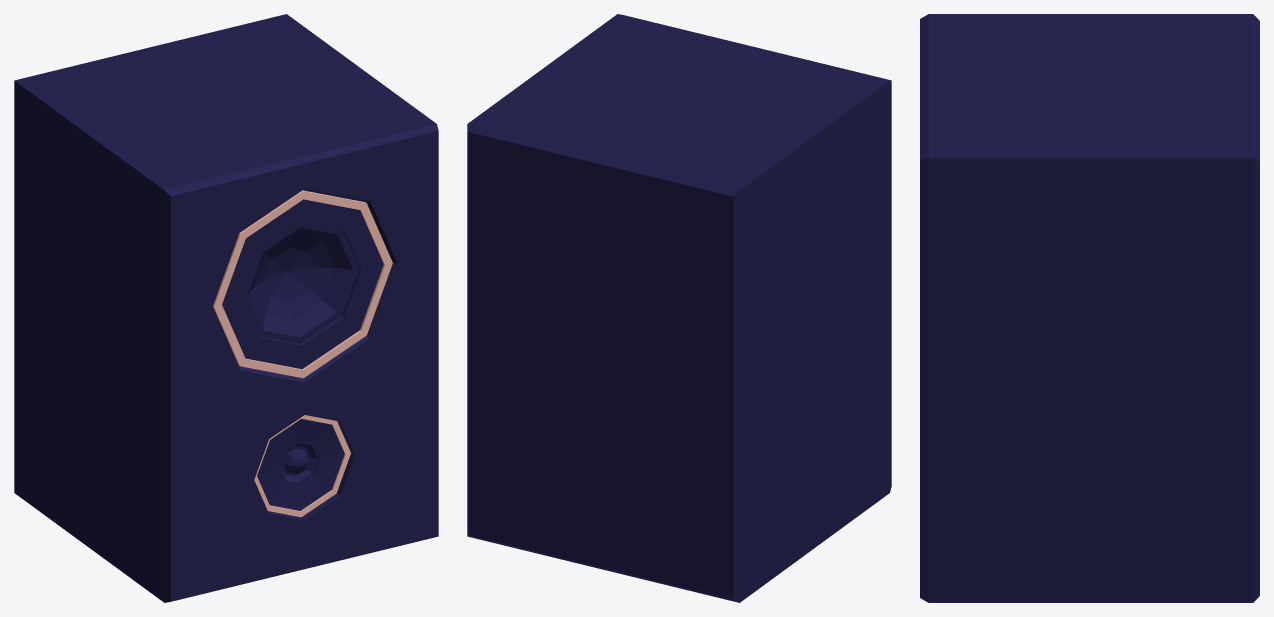
Rendered from hifiStereo.gltf.
3 renders of one model, left to right at view 1: azimuth 30°, elevation 25°; view 2: azimuth 150°, elevation 25°; view 3: azimuth 270°, elevation 25°, orthographic. The views are drawn at different scales.
Visible parts, largest first — view 1: node-0; view 2: node-0; view 3: node-0.
Part boxes in pixels (bbox=[...]): node-0: bbox=[14, 14, 438, 602]; node-0: bbox=[467, 14, 891, 602]; node-0: bbox=[920, 14, 1259, 602].
Size of the model in its own units: 5.42 by 7.85 by 5.42.
